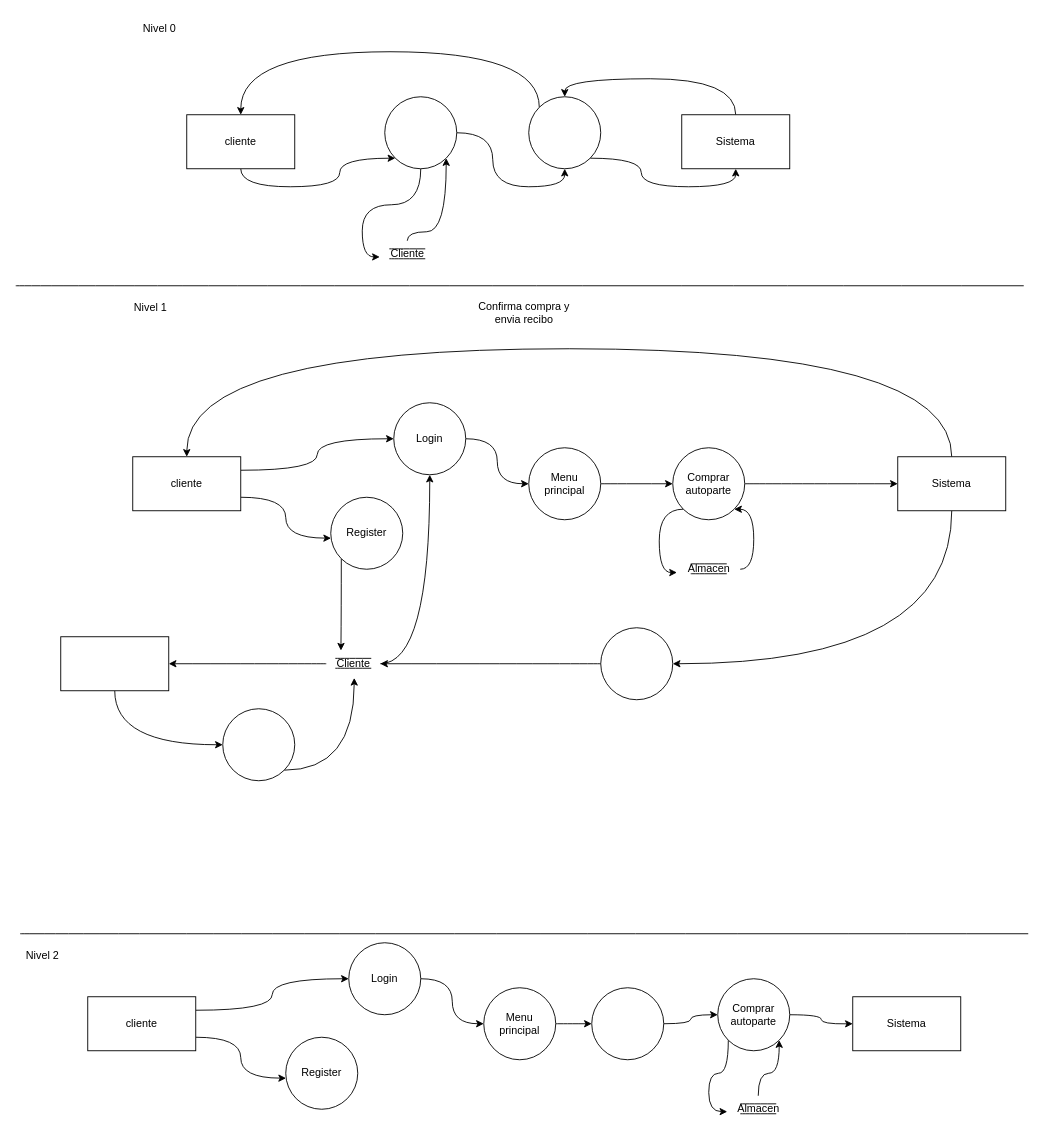
Image size: 1045x1138. Some labels were removed from this diagram. Each missing label, with the centre of its shape:
Admin: (x=114, y=663)
Genera Recibo: (x=636, y=663)
Gestionar Cliente: (x=258, y=744)
Login/Register: (x=420, y=132)
Seccion de tienda: (x=627, y=1023)
Tienda Autopartes: (x=564, y=132)
